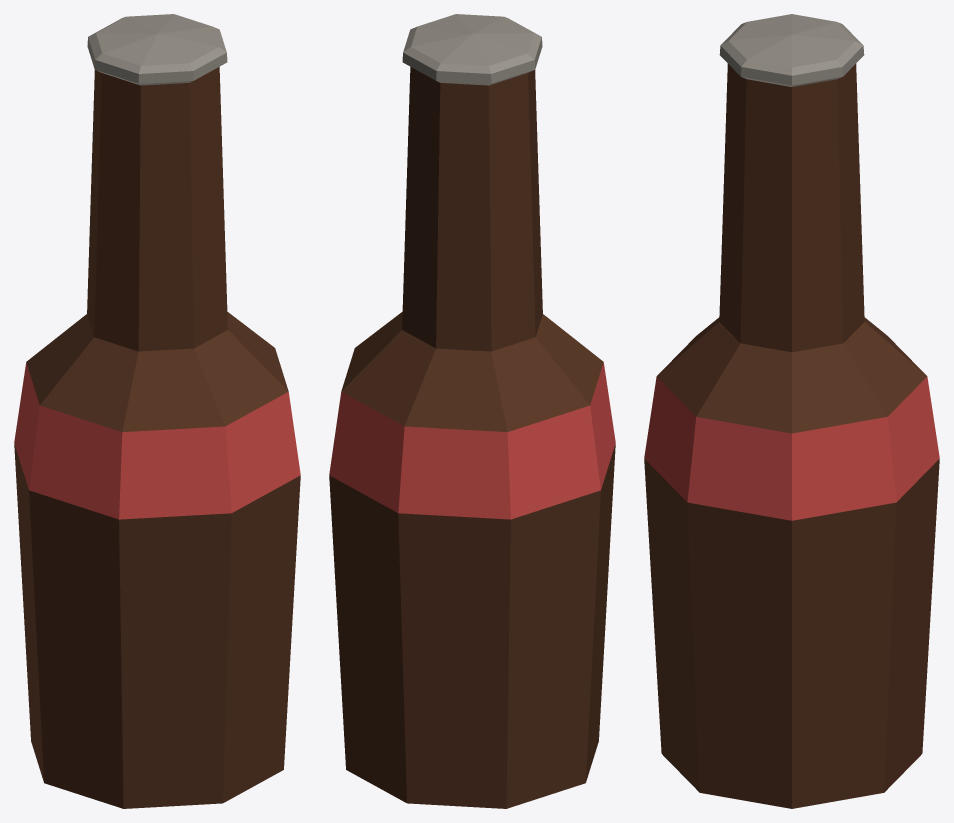
The model's file is Bottle_1.fbx.
3 renders of one model, left to right at view 1: azimuth 30°, elevation 25°; view 2: azimuth 150°, elevation 25°; view 3: azimuth 270°, elevation 25°, orthographic.
Visible parts, largest first — view 1: pCylinder86; view 2: pCylinder86; view 3: pCylinder86.
Boxes of the visible parts, left/top/right/bottom form: pCylinder86: left=14, top=14, right=300, bottom=808; pCylinder86: left=329, top=14, right=615, bottom=808; pCylinder86: left=644, top=14, right=939, bottom=808.
Bounding box in the file's own units: 0.2358 × 0.6327 × 0.2358.
Materials: 1 (1 with a texture image).
